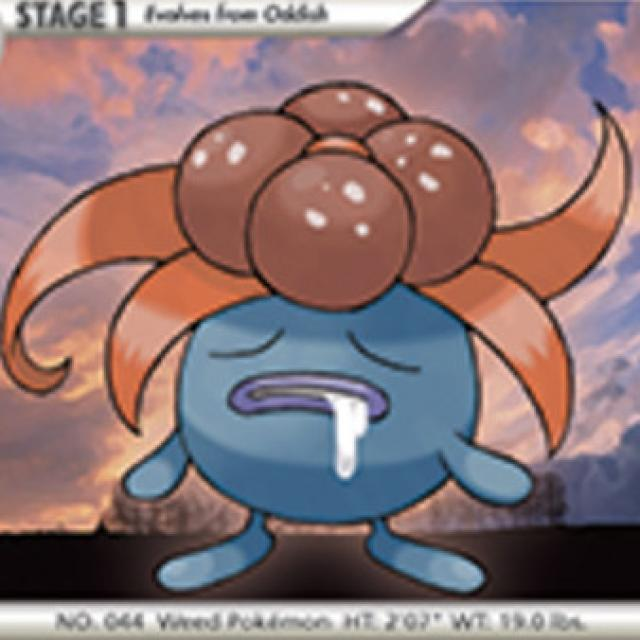Gloom: (4, 76, 629, 602)
